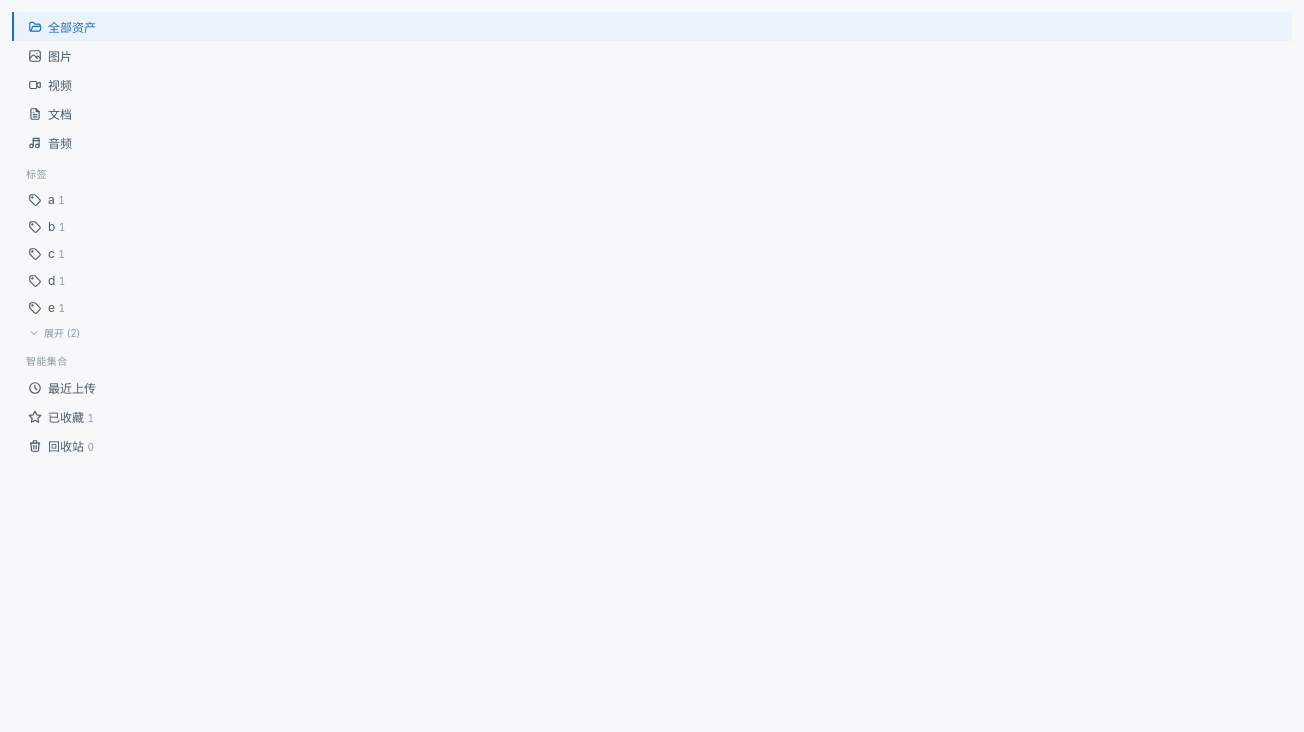
Scenario: Sidebar tag collapse › collapses back to the first 5 tags on second click
Click the button "展开 (2)".
click(62, 333)  # box x1=12 y1=321 x2=1292 y2=344
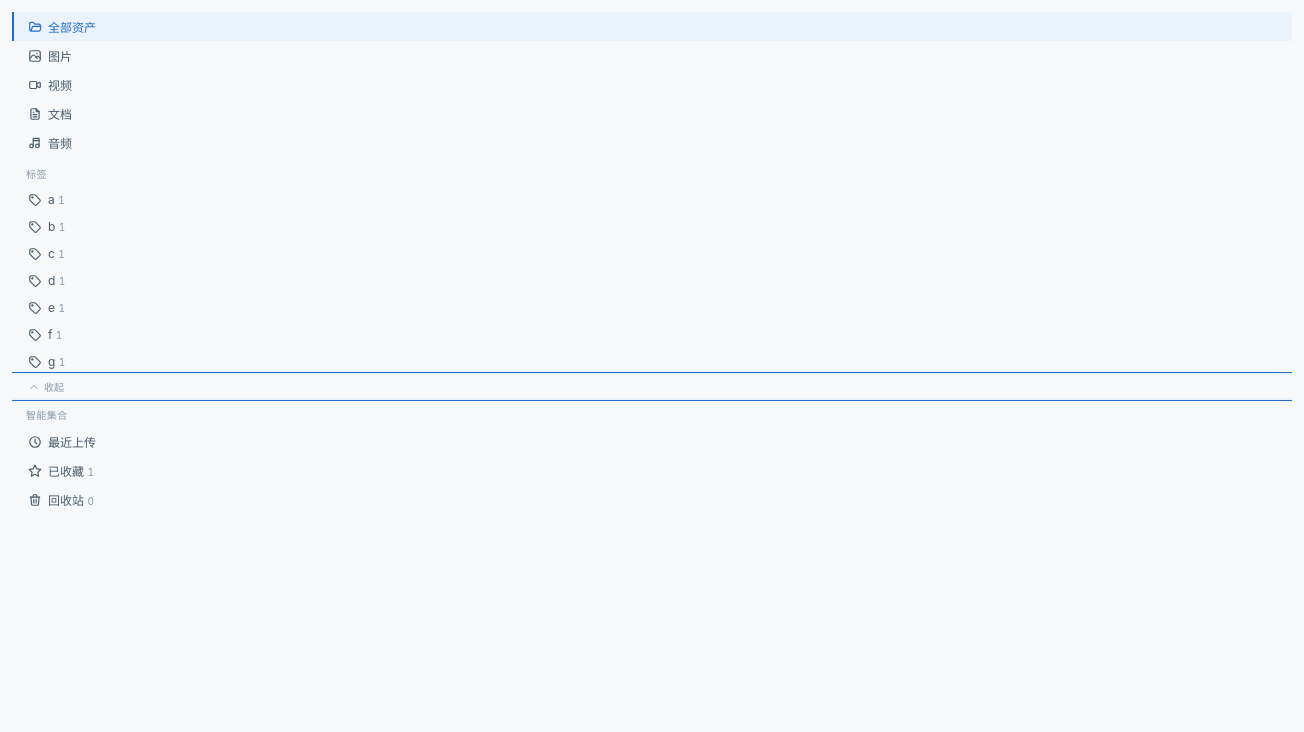
Click the button "收起".
click(34, 386)  # box x1=12 y1=375 x2=1292 y2=398
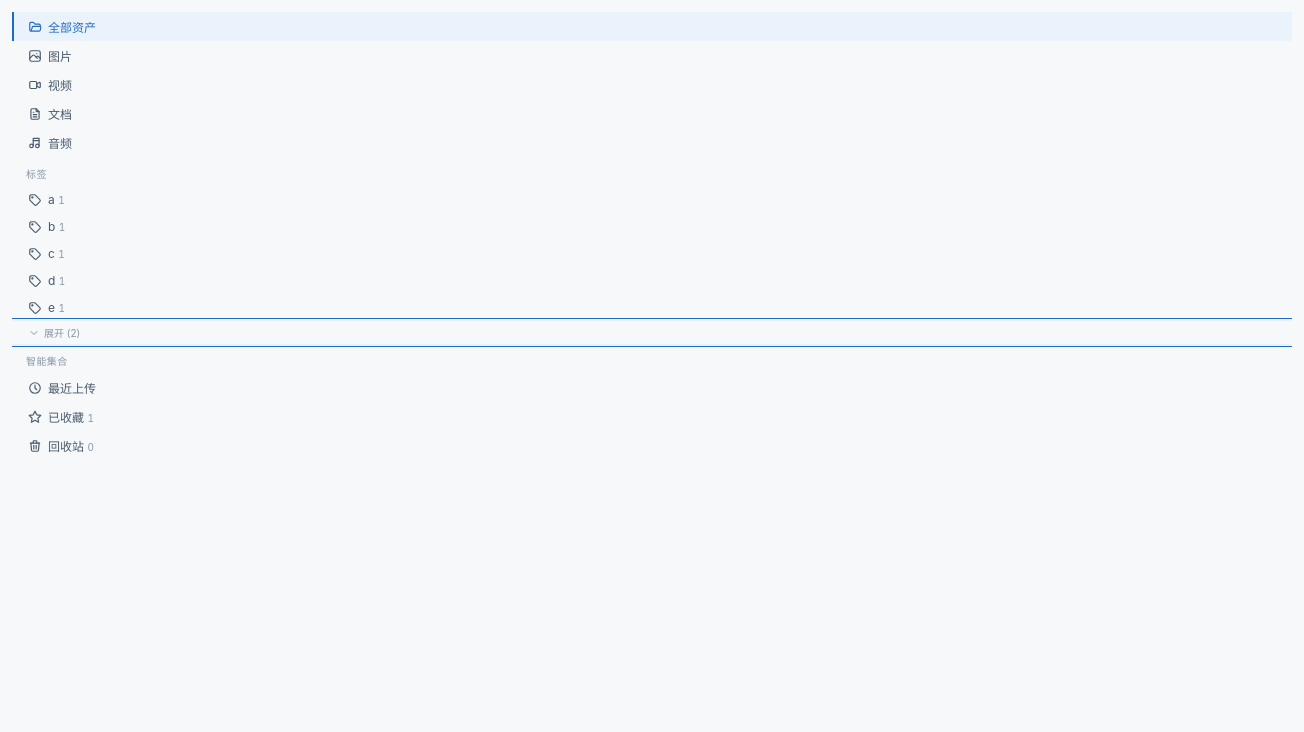
Check: the button "f" is gone
Check: the button "展开 (2)" is shown, box x1=12 y1=321 x2=1292 y2=344
